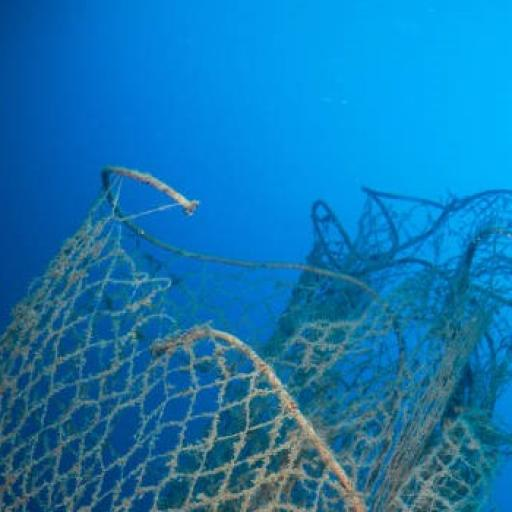net: (2, 164, 512, 512)
